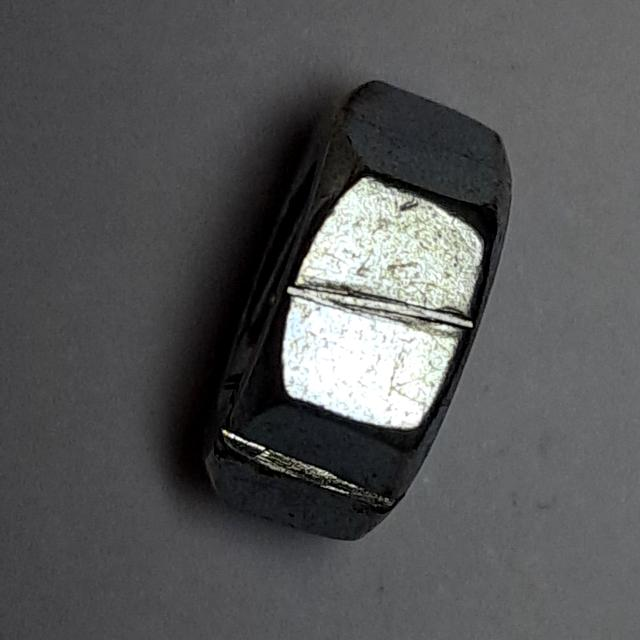Side_Scratches: (186, 68, 528, 561)
